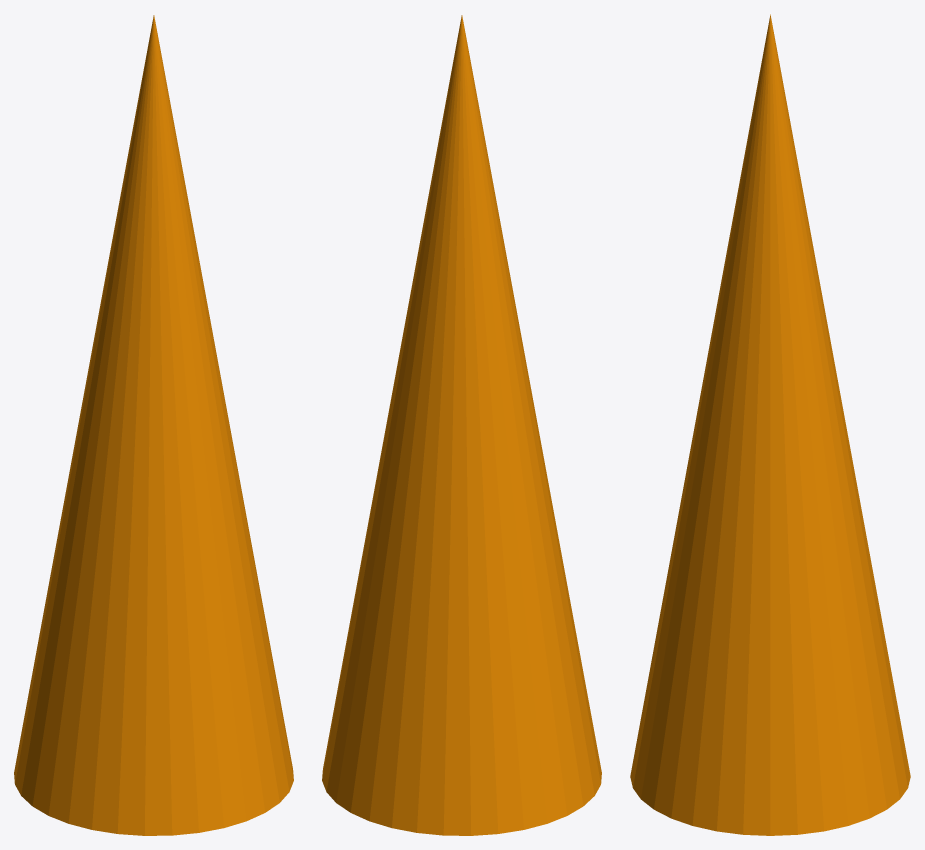
The model's file is @wall.Cone.obj.
3 views of the same model, side by side, from view 1: azimuth 30°, elevation 25°; view 2: azimuth 150°, elevation 25°; view 3: azimuth 270°, elevation 25° (orthographic).
Visible parts, largest first — view 1: Cone.002; view 2: Cone.002; view 3: Cone.002.
Boxes of the visible parts, x1,y1,x2,y2 form: Cone.002: (14,15,293,835); Cone.002: (322,15,601,835); Cone.002: (630,14,910,835).
Bounding box in the file's own units: 20 × 60 × 20.
Materials: 1 (1 with a texture image).
